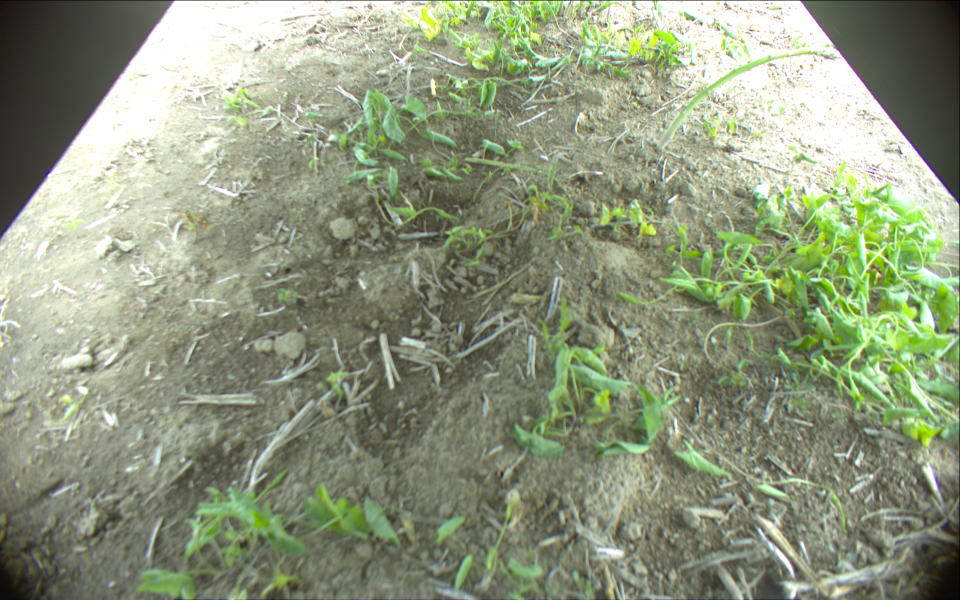aspa: (658, 51, 839, 150), (548, 277, 563, 320), (524, 336, 538, 380)
